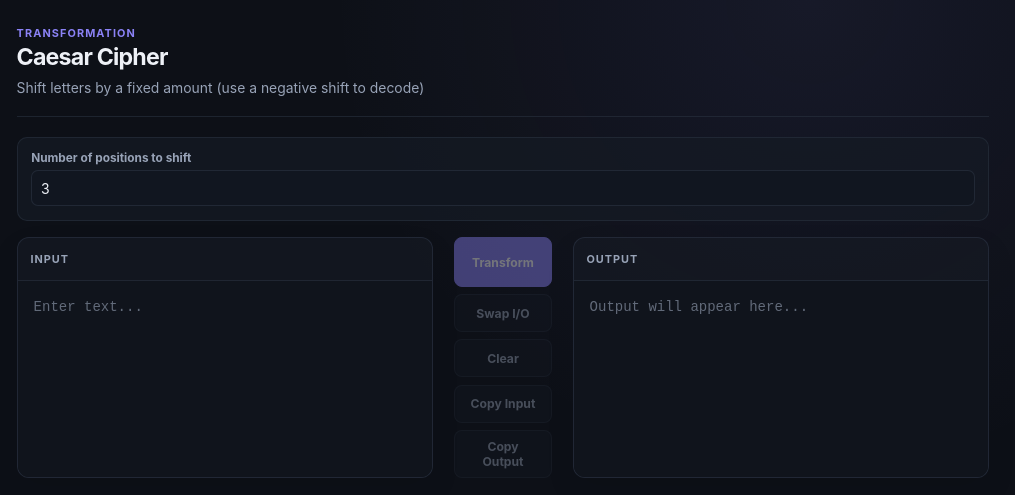
Test: GenericTransformationPage › parameters › honours an edited numeric parameter
The image size is (1015, 495).
Replace the text in the number field labelled "Number of positions to shift" with "1": (503, 188) [31,170,975,206]
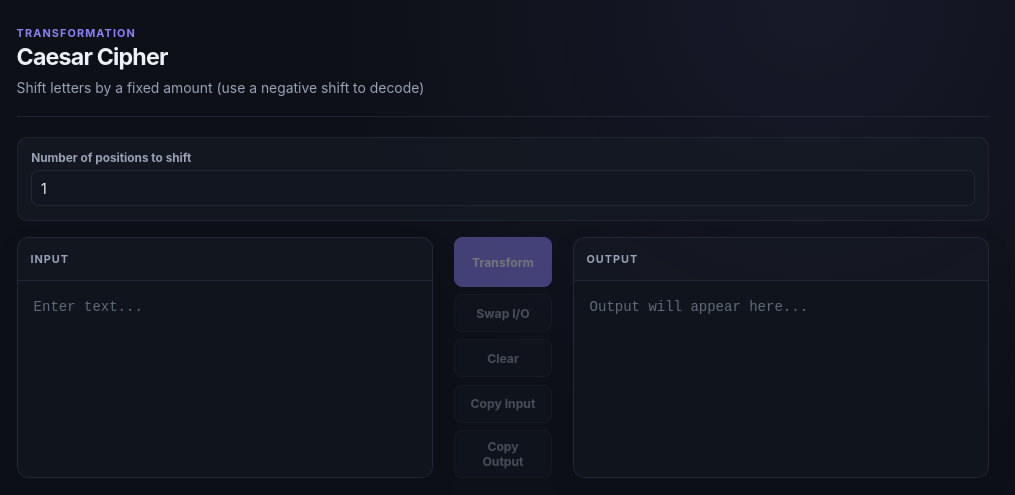
In the text box with id "input-textarea": (225, 379) [18,281,432,477], type "abc"
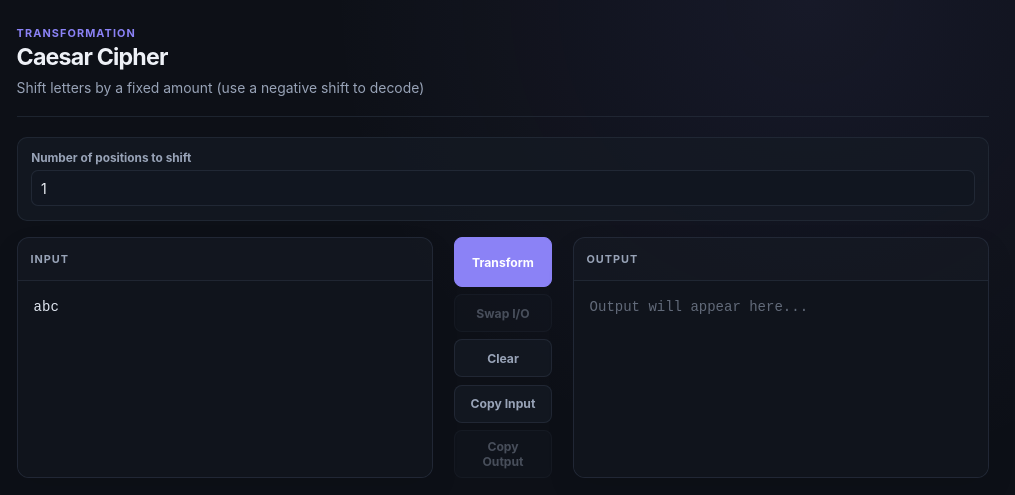
Click the button with class "transform-button": click(503, 262) [454,237,552,287]
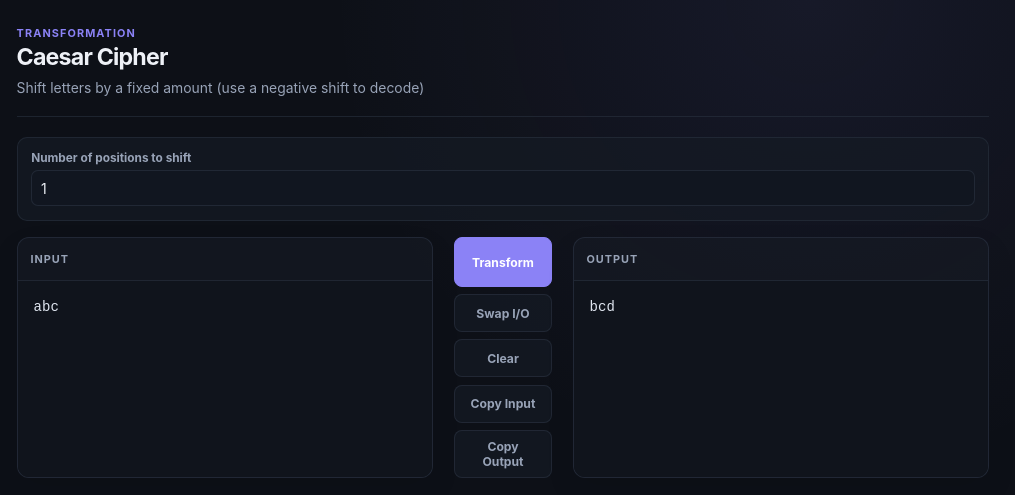
Expected: the text box with id "output-textarea" holds "bcd", [574,281,988,477]
